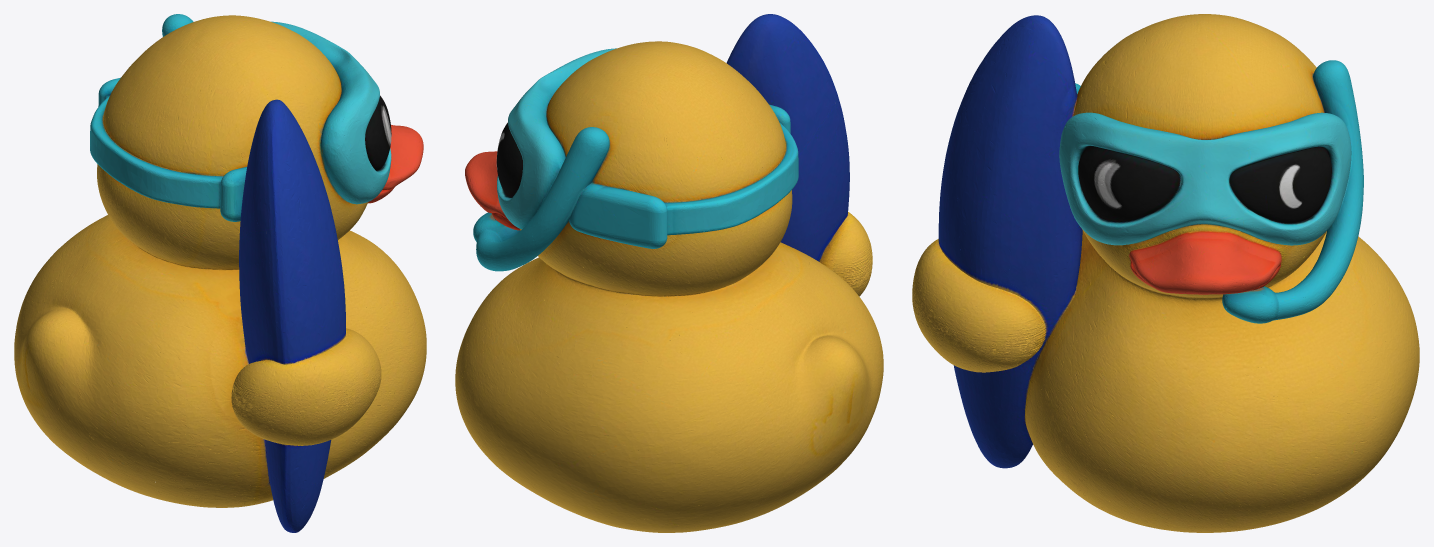
Rendered from duck_opt.glb.
The picture shows the model from 3 angles, left to right: view 1: azimuth 30°, elevation 25°; view 2: azimuth 150°, elevation 25°; view 3: azimuth 270°, elevation 25°; orthographic projection. The views are drawn at different scales.
Parts seen in each view (by area): view 1: tripo_mesh_d6e8f26f-226a-44c0-8c35-85a0abf36b24; view 2: tripo_mesh_d6e8f26f-226a-44c0-8c35-85a0abf36b24; view 3: tripo_mesh_d6e8f26f-226a-44c0-8c35-85a0abf36b24.
Boxes of the visible parts, bbox=[...] form: tripo_mesh_d6e8f26f-226a-44c0-8c35-85a0abf36b24: bbox=[14, 14, 426, 532]; tripo_mesh_d6e8f26f-226a-44c0-8c35-85a0abf36b24: bbox=[455, 14, 883, 532]; tripo_mesh_d6e8f26f-226a-44c0-8c35-85a0abf36b24: bbox=[912, 14, 1419, 532].
Size of the model in its own units: 0.9103 by 0.9799 by 0.9586.
1 material, 1 textured.
